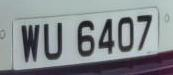0: (116, 13, 137, 57)
4: (96, 12, 118, 62)
6: (74, 15, 98, 64)
7: (136, 11, 155, 53)
U: (41, 19, 67, 66)
W: (18, 19, 44, 69)
